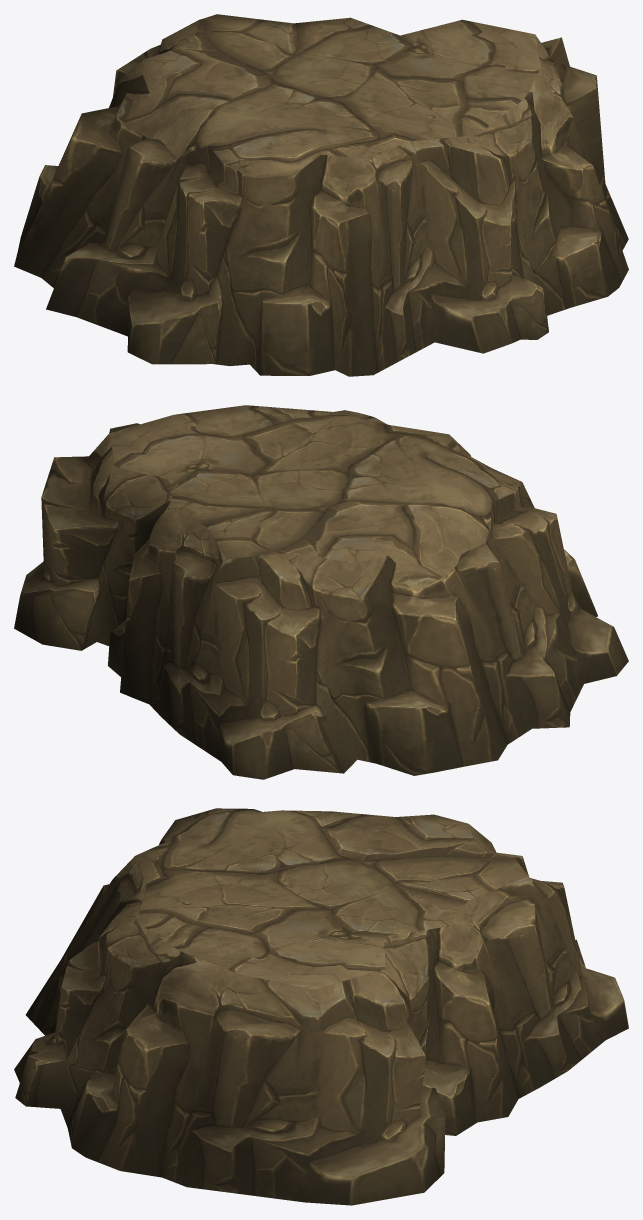
Rendered from D_dimian007.fbx.
The picture shows the model from 3 angles, top to bottom: view 1: azimuth 30°, elevation 25°; view 2: azimuth 150°, elevation 25°; view 3: azimuth 270°, elevation 25°; orthographic projection. The views are drawn at different scales.
Parts seen in each view (by area): view 1: D_dimian007; view 2: D_dimian007; view 3: D_dimian007.
Part boxes in pixels (x1=…): D_dimian007: x1=14, y1=14, x2=628, y2=376; D_dimian007: x1=14, y1=405, x2=628, y2=779; D_dimian007: x1=14, y1=808, x2=628, y2=1205.
Size of the model in its own units: 1527 by 475 by 1401.
